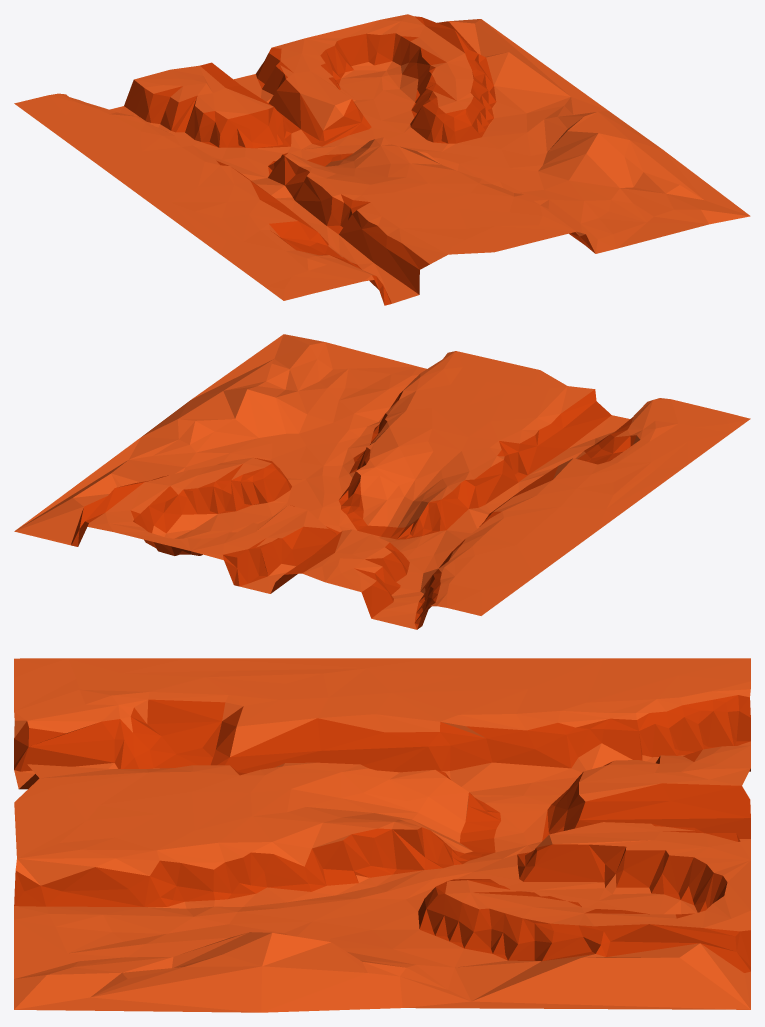
Rendered from ayax_level1.fbx.
3 renders of one model, top to bottom at view 1: azimuth 30°, elevation 25°; view 2: azimuth 150°, elevation 25°; view 3: azimuth 270°, elevation 25°, orthographic. The views are drawn at different scales.
Visible parts, largest first — view 1: Plane; view 2: Plane; view 3: Plane.
Boxes of the visible parts, left/top/right/bottom form: Plane: left=14, top=14, right=750, bottom=305; Plane: left=14, top=334, right=750, bottom=629; Plane: left=14, top=658, right=750, bottom=1012.
Size of the model in its own units: 4001 by 325 by 4025.
